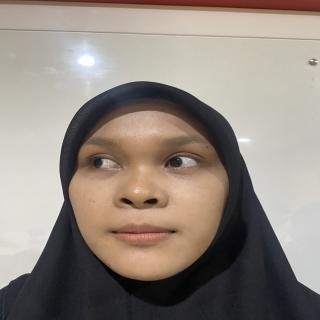Takut: (55, 90, 244, 295)
